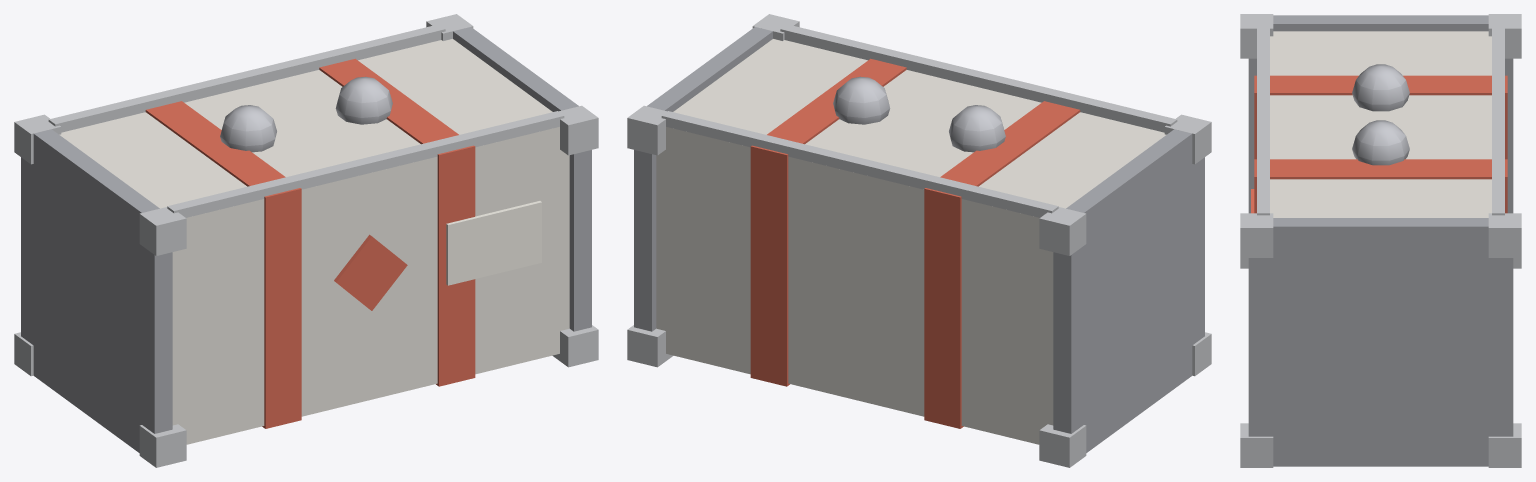
File: render.glb
3 renders of one model, left to right at view 1: azimuth 30°, elevation 25°; view 2: azimuth 150°, elevation 25°; view 3: azimuth 270°, elevation 25°, orthographic.
Visible parts, largest first — view 1: pod_body, pod_enda, banda, bandf, pod_casts, pod_endf, pod_railp, pod_rails, pod_plate, placard, relief_f, relief_a; view 2: pod_body, pod_enda, banda, bandf, pod_casts, pod_endf, pod_rails, pod_railp, relief_f, relief_a; view 3: pod_endf, pod_body, pod_casts, pod_enda, bandf, banda, pod_railp, pod_rails, relief_a, relief_f.
Part boxes in pixels (x1,y1,x2,y2): pod_body: (59, 39, 569, 444); pod_enda: (21, 129, 172, 452); banda: (145, 101, 301, 428); bandf: (319, 58, 475, 386); pod_casts: (14, 14, 598, 467); pod_endf: (453, 27, 591, 331); pod_railp: (48, 24, 445, 132); pod_rails: (167, 111, 564, 217); pod_plate: (446, 201, 541, 285); placard: (334, 234, 407, 310); relief_f: (335, 76, 392, 124); relief_a: (220, 105, 276, 152); pod_body: (656, 39, 1166, 444); pod_enda: (1053, 129, 1204, 452); banda: (924, 101, 1080, 428); bandf: (750, 58, 906, 386); pod_casts: (627, 14, 1211, 467); pod_endf: (634, 27, 772, 331); pod_rails: (780, 24, 1177, 132); pod_railp: (661, 111, 1058, 217); relief_f: (833, 76, 890, 124); relief_a: (949, 105, 1005, 152); pod_endf: (1248, 218, 1513, 466); pod_body: (1270, 31, 1491, 217); pod_casts: (1240, 14, 1521, 467); pod_enda: (1248, 15, 1513, 213); bandf: (1254, 159, 1507, 213); banda: (1254, 75, 1507, 159); pod_railp: (1492, 24, 1504, 215); pod_rails: (1257, 24, 1269, 215); relief_a: (1352, 64, 1409, 111); relief_f: (1352, 120, 1409, 165).
Bounding box in the file's own units: 6.12 × 3.55 × 3.4.
